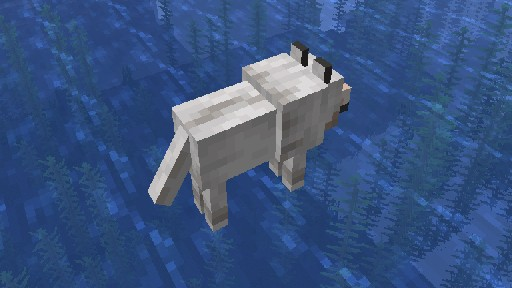wolf: (147, 40, 351, 232)
